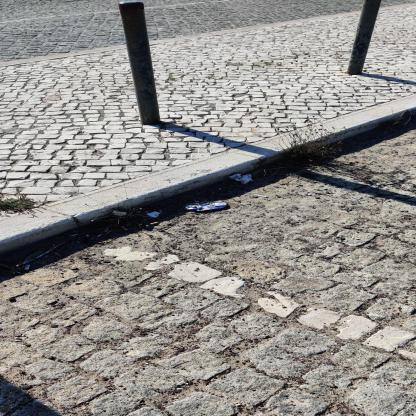diger: (254, 195, 269, 198)
kagit: (230, 175, 253, 185)
metal: (185, 203, 229, 213)
